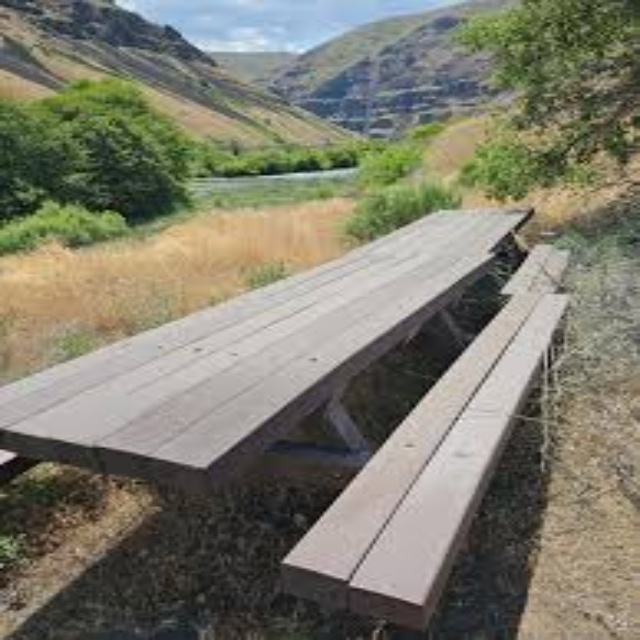obstacle: (7, 200, 567, 635)
